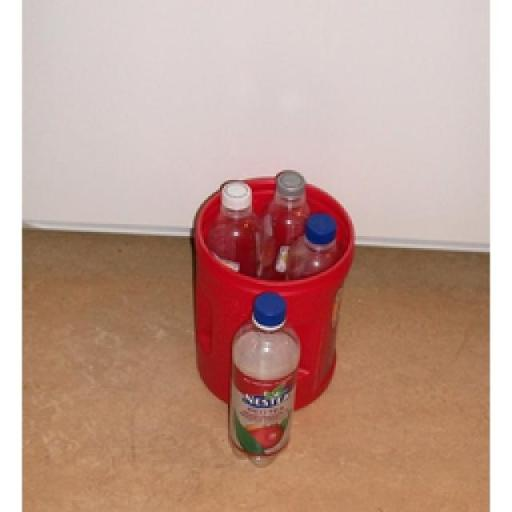plastic: (226, 290, 300, 466)
